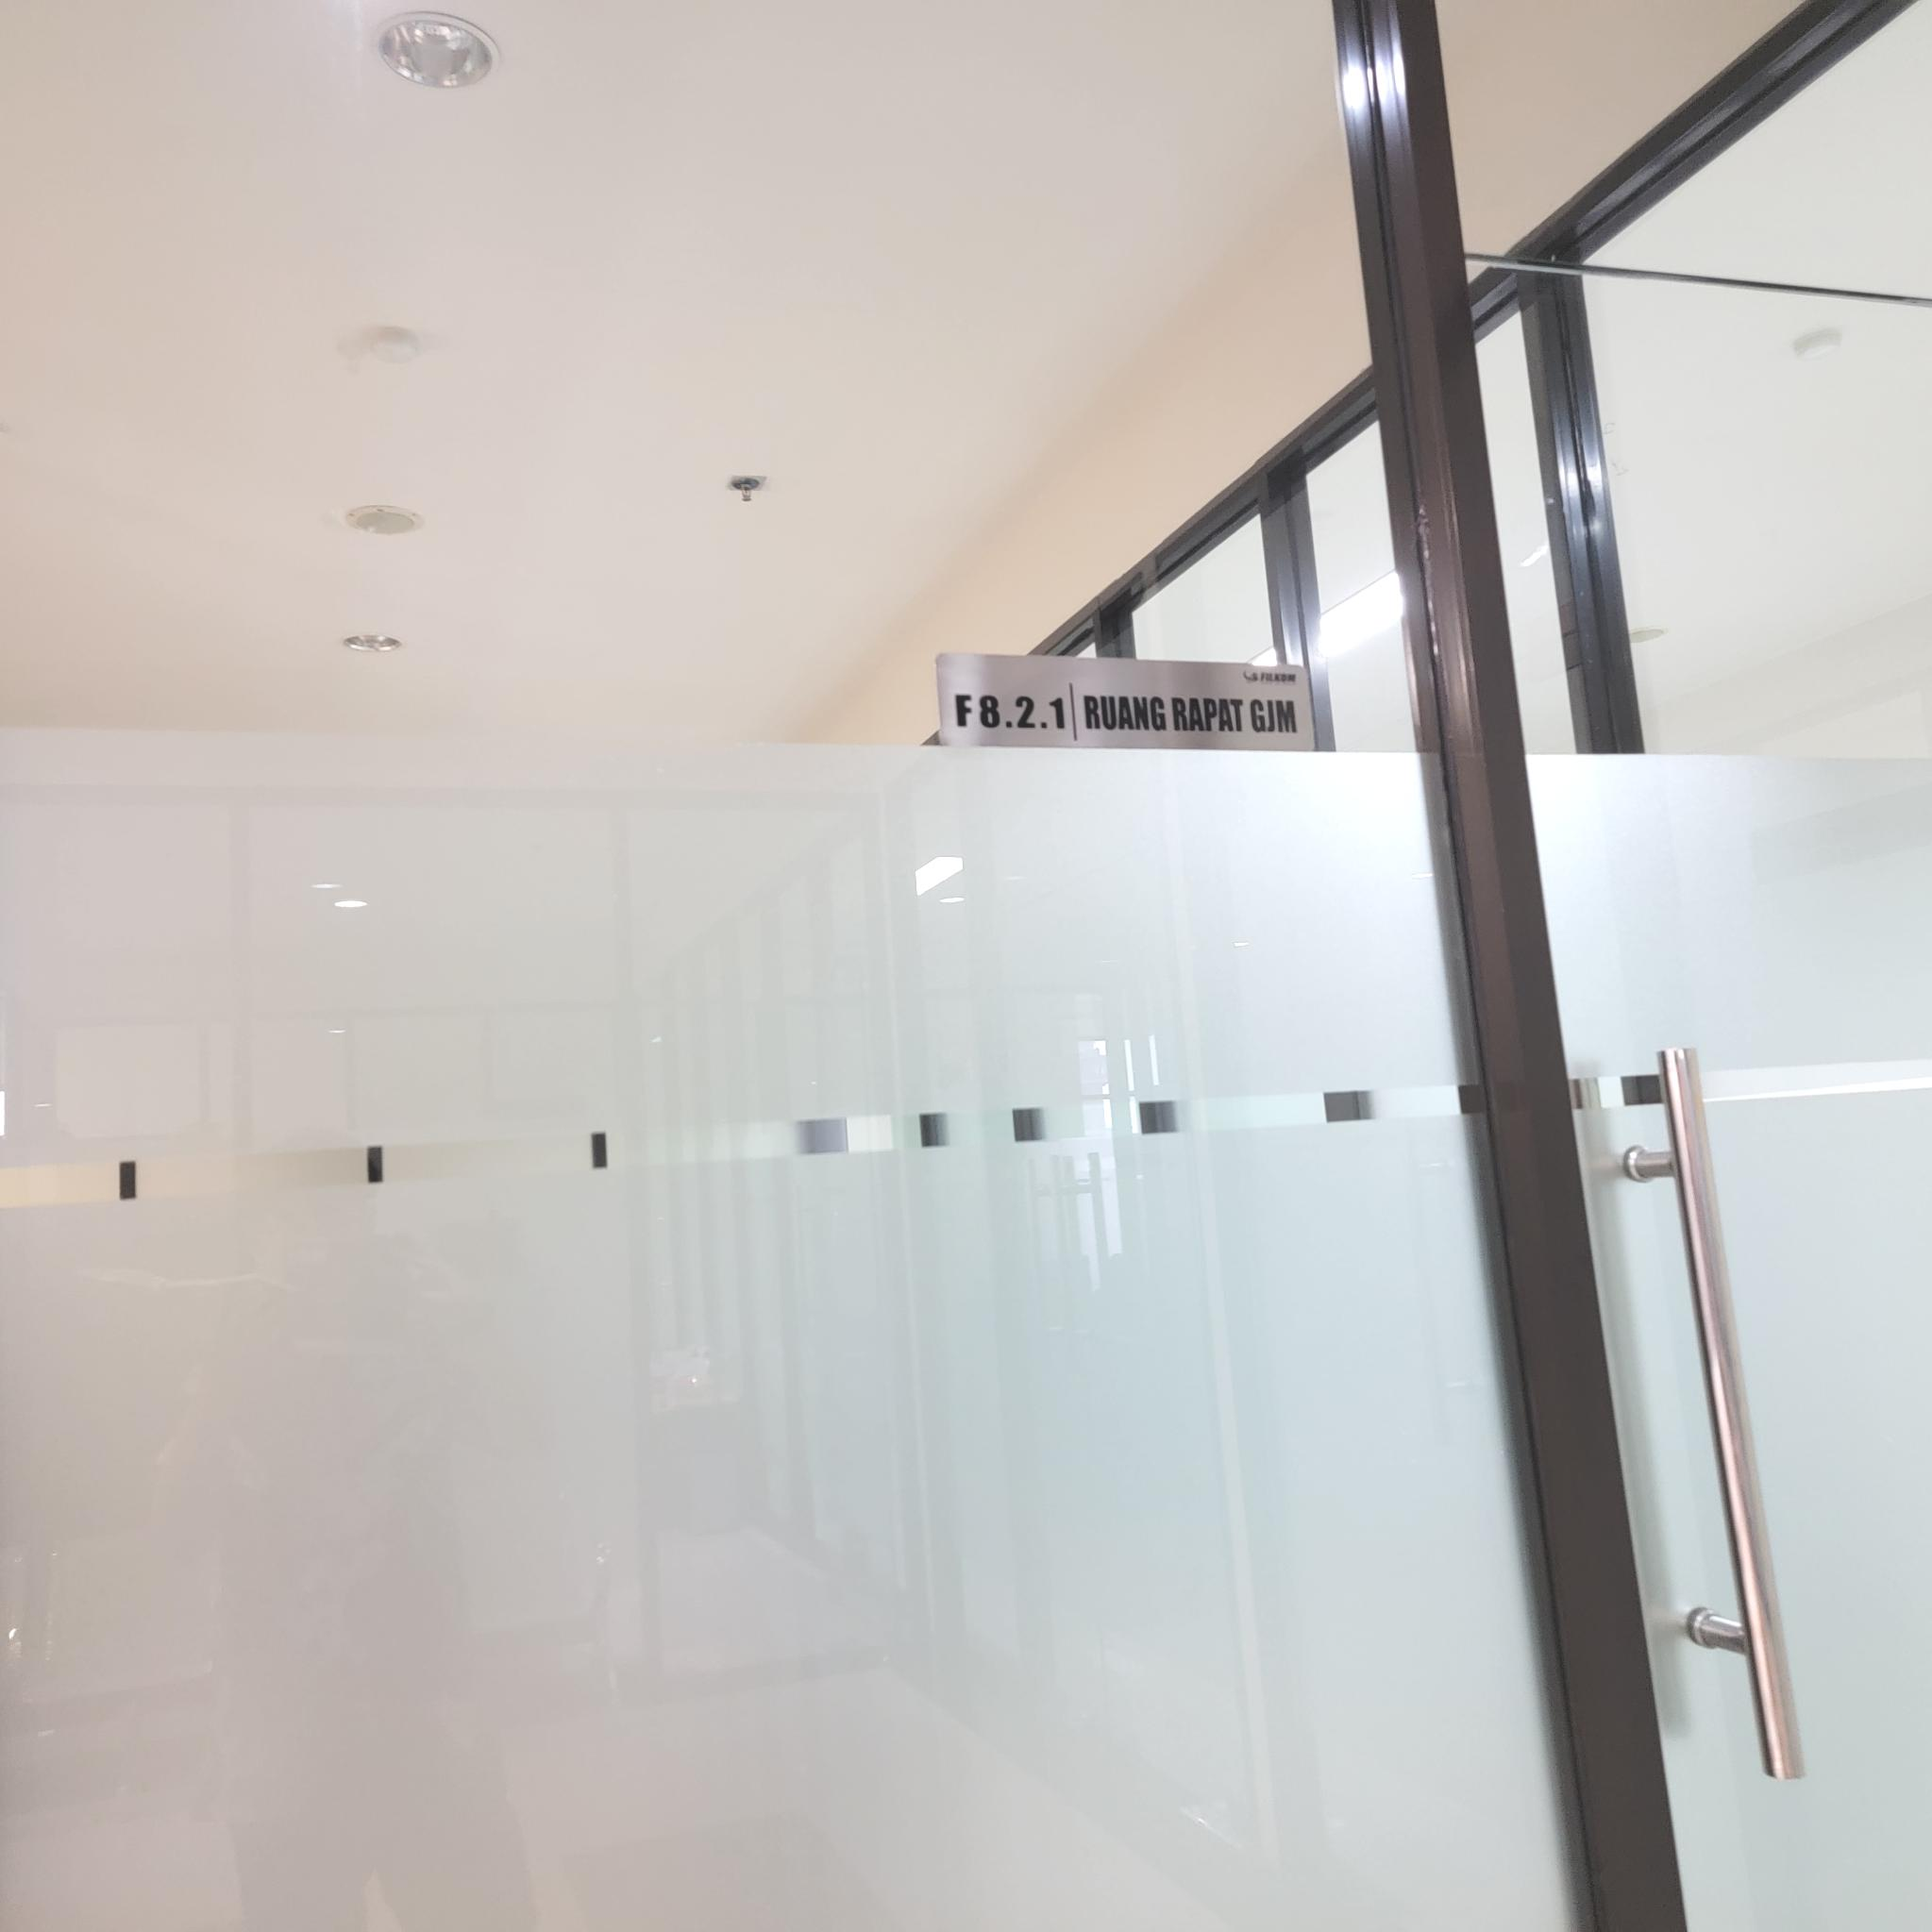plate: (936, 649, 1316, 755)
